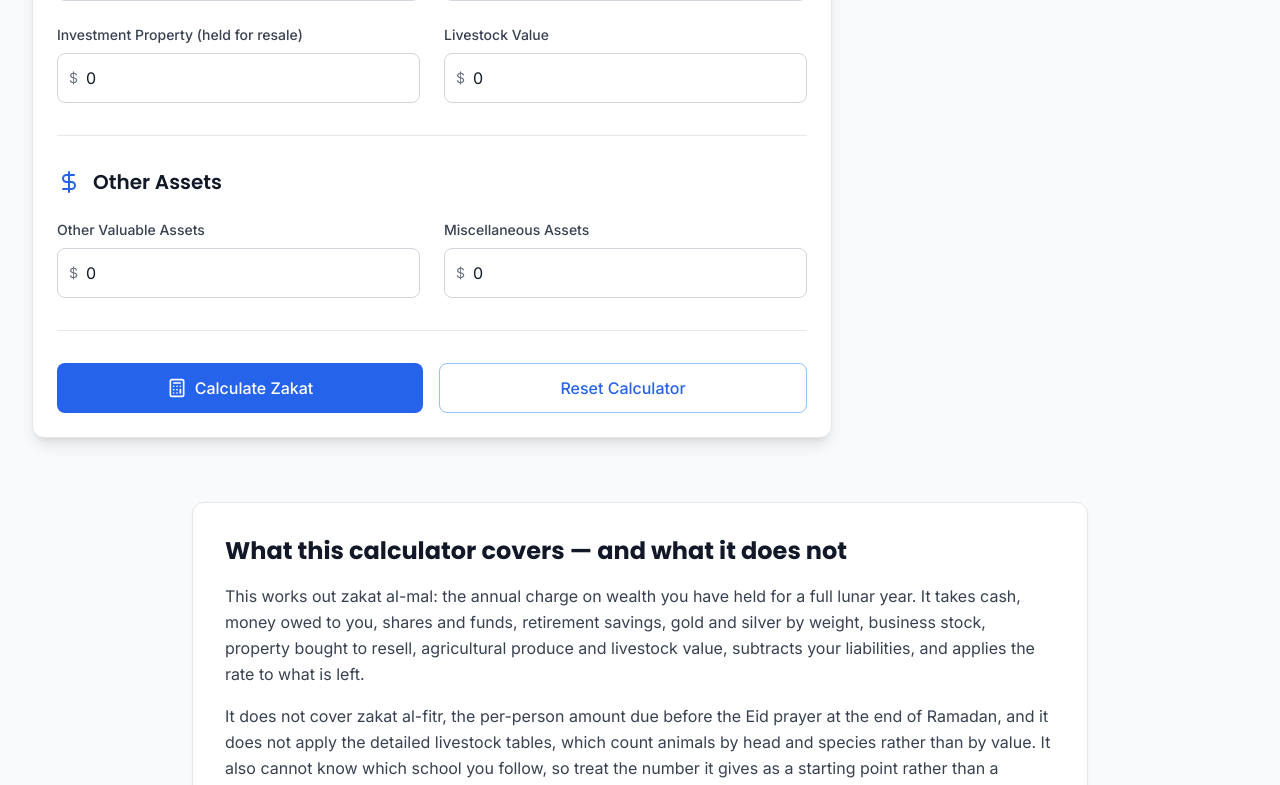
Test: Zakat calculator page › shows no threshold at all when the backend could not reach one
(page scrolled)
Click the button "Calculate Zakat": x=240, y=388 57,363 -> 423,413
(page scrolled)
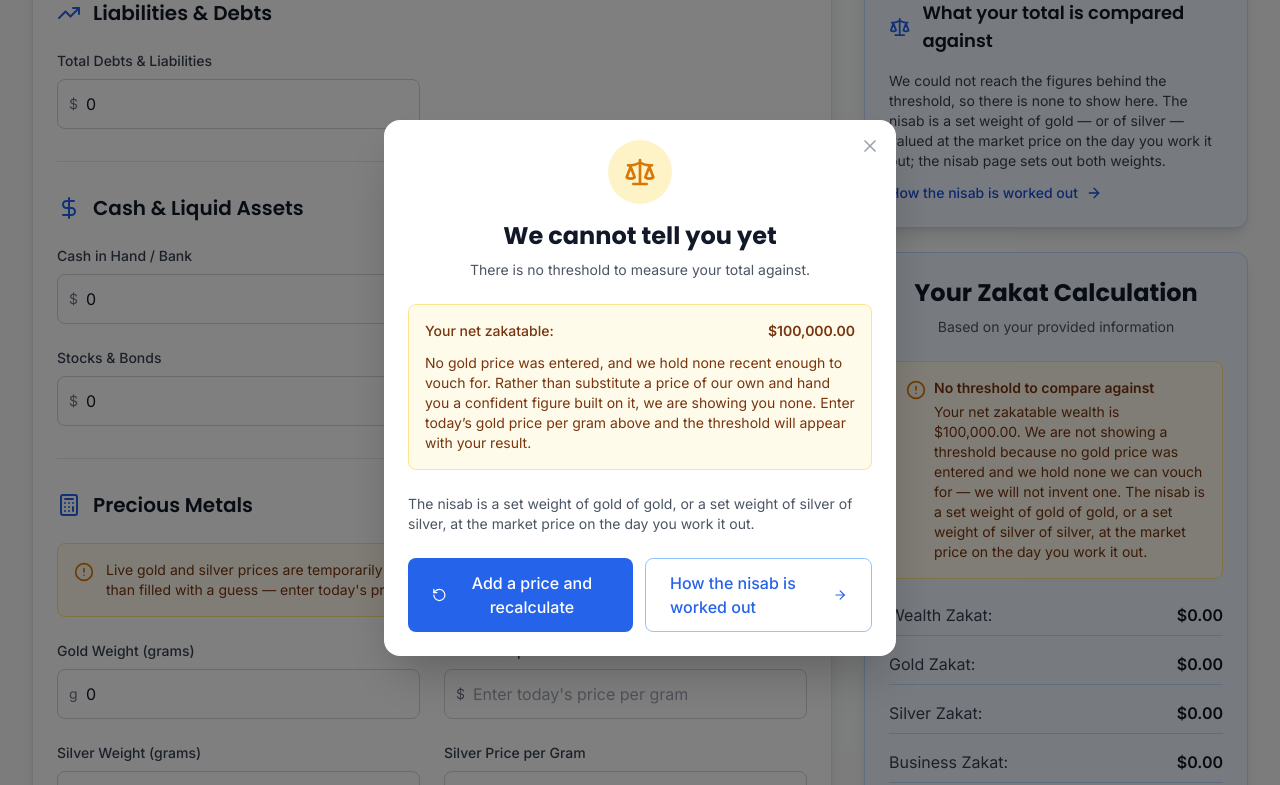
Now the text "No threshold to compare against" is shown, box 934,379 -> 1154,396
